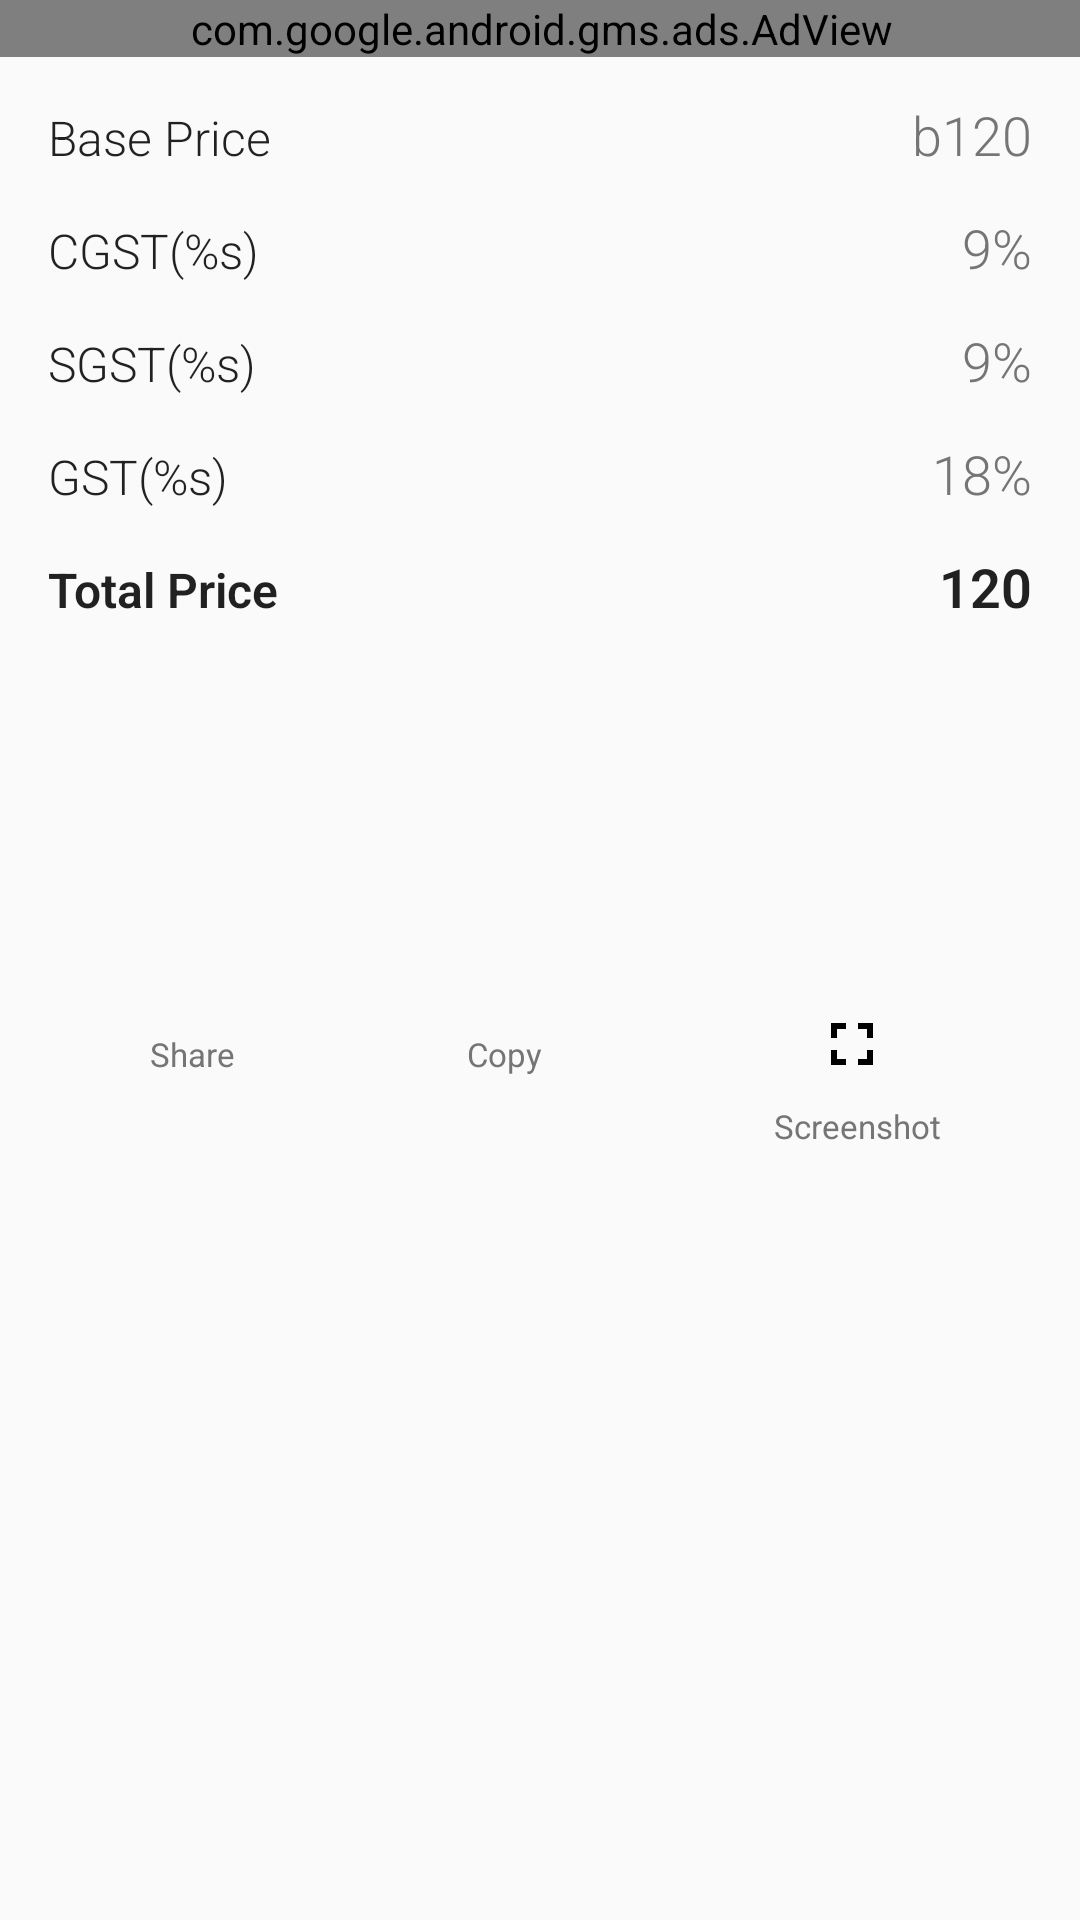

Where icons sit on this 1080 × 1920 app screen, as (left=x1, top=y1, right=x2, bottom=y2):
fullscreen: (left=831, top=1023, right=873, bottom=1065)
